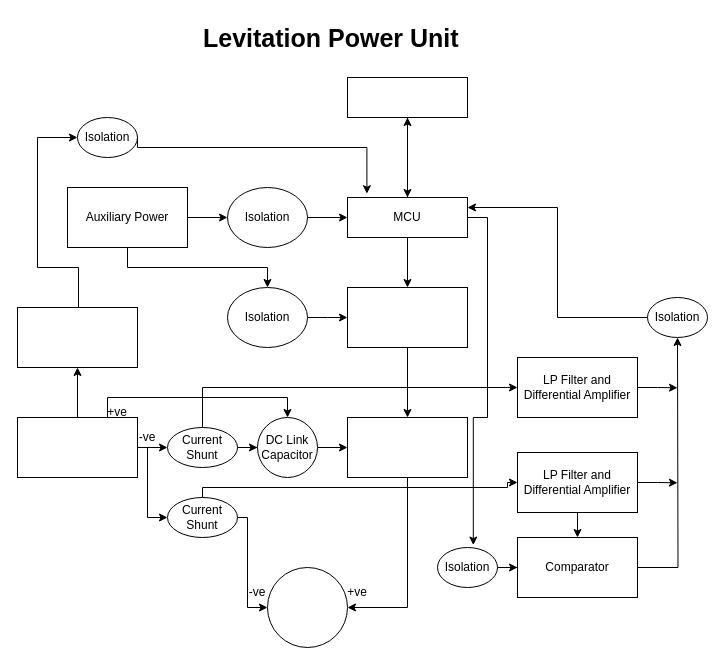
The diagram is 725 pixels wide and 665 high, and some of its shapes have lost their labels. The centre of each missing label's shape, as x and y in pixels:
"Control VCU" goes at (x=407, y=97).
"DC Link" goes at (x=77, y=447).
"EMS Unit" goes at (x=307, y=607).
"IGBT Half Bridge" goes at (x=407, y=447).
"Isolated Gate Driver" goes at (x=407, y=317).
"Voltage Divider, LP Filter and Differential Amplifier" goes at (x=77, y=337).
